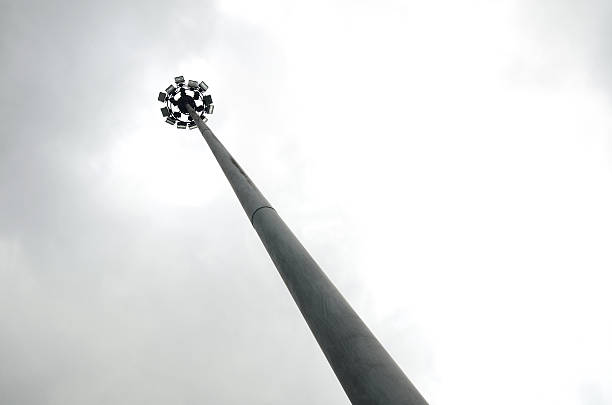light_pole: (194, 121, 429, 405)
